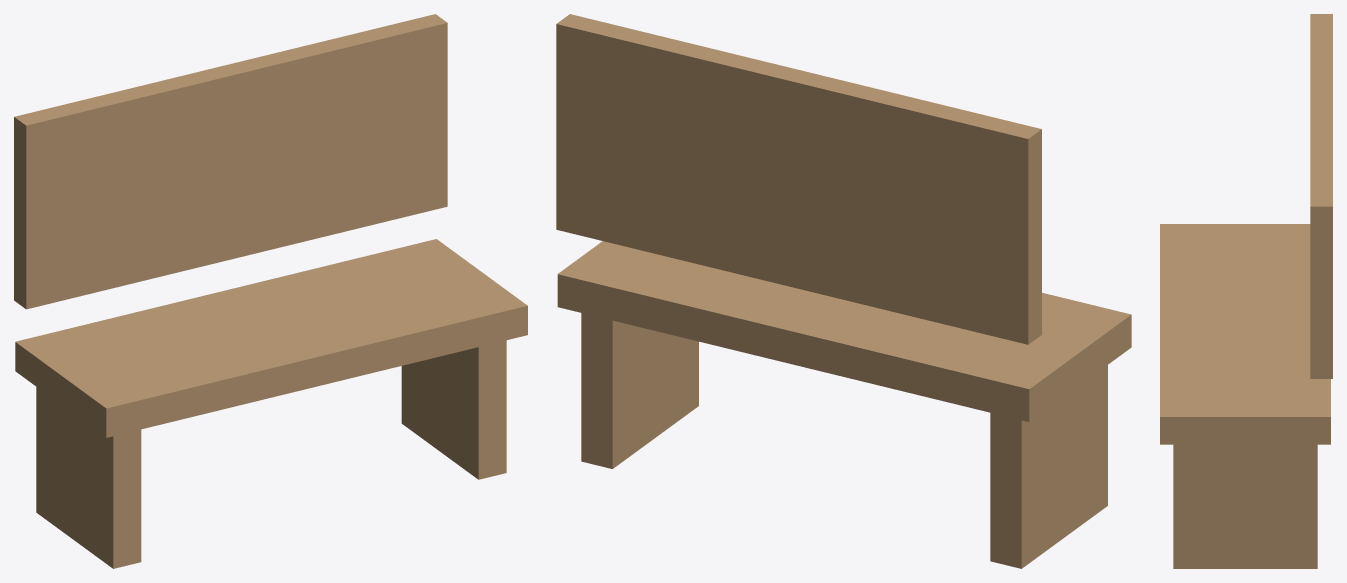
The model's file is Bench.glb.
The picture shows the model from 3 angles, left to right: view 1: azimuth 30°, elevation 25°; view 2: azimuth 150°, elevation 25°; view 3: azimuth 270°, elevation 25°; orthographic projection. The views are drawn at different scales.
Parts seen in each view (by area): view 1: filler_Bench; view 2: filler_Bench; view 3: filler_Bench.
Part boxes in pixels (x1,y1,x2,y2): filler_Bench: [14, 14, 527, 568]; filler_Bench: [556, 14, 1131, 568]; filler_Bench: [1160, 14, 1332, 568].
Size of the model in its own units: 1.2 by 1.07 by 0.455.
